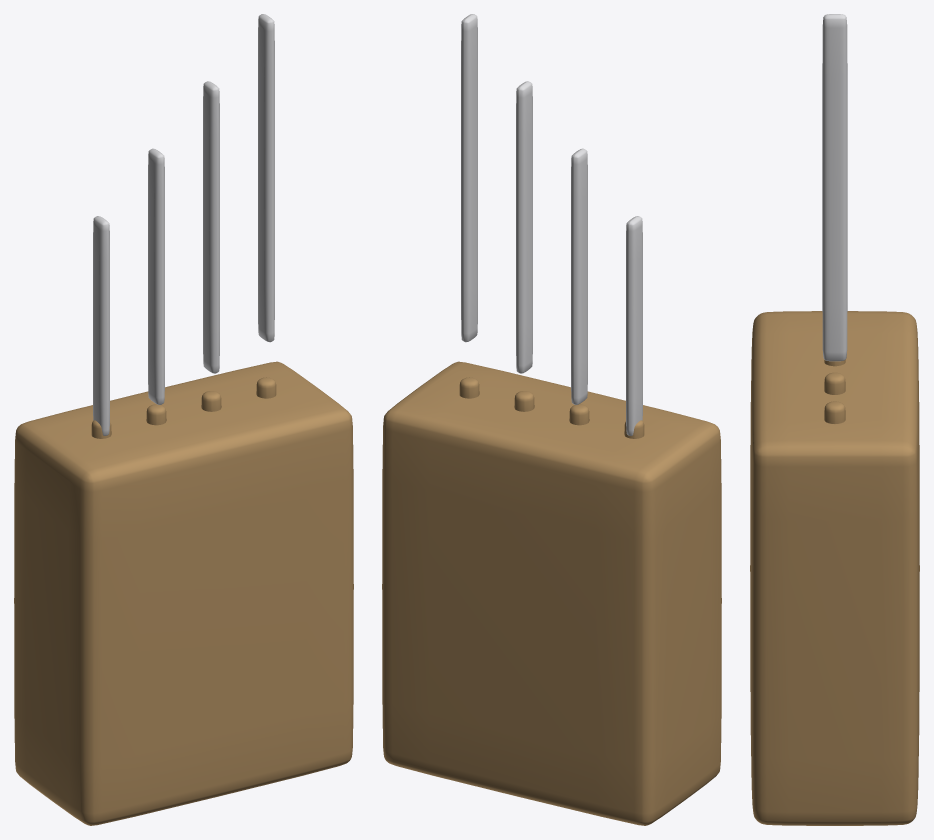
The model's file is knife_rack.glb.
The picture shows the model from 3 angles, left to right: view 1: azimuth 30°, elevation 25°; view 2: azimuth 150°, elevation 25°; view 3: azimuth 270°, elevation 25°; orthographic projection. The views are drawn at different scales.
Parts seen in each view (by area): view 1: knife_rack; view 2: knife_rack; view 3: knife_rack.
Boxes of the visible parts, <box> form: knife_rack: <box>14,14,353,825</box>; knife_rack: <box>382,14,721,825</box>; knife_rack: <box>750,14,919,825</box>.
Size of the model in its own units: 0.3995 by 1.02 by 0.1995.
